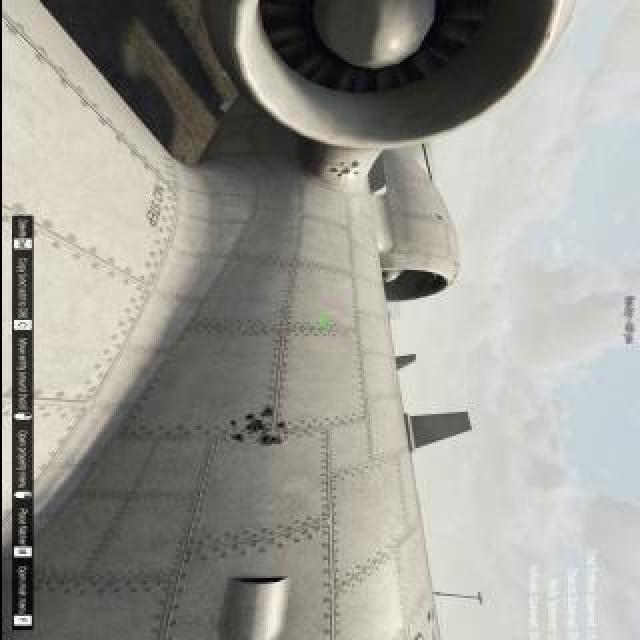crack: (260, 436, 278, 448), (259, 408, 277, 420), (247, 424, 263, 432), (226, 436, 240, 444), (242, 415, 254, 423), (347, 161, 359, 169), (276, 425, 286, 433), (340, 169, 350, 177), (327, 168, 337, 176), (353, 172, 361, 176)
